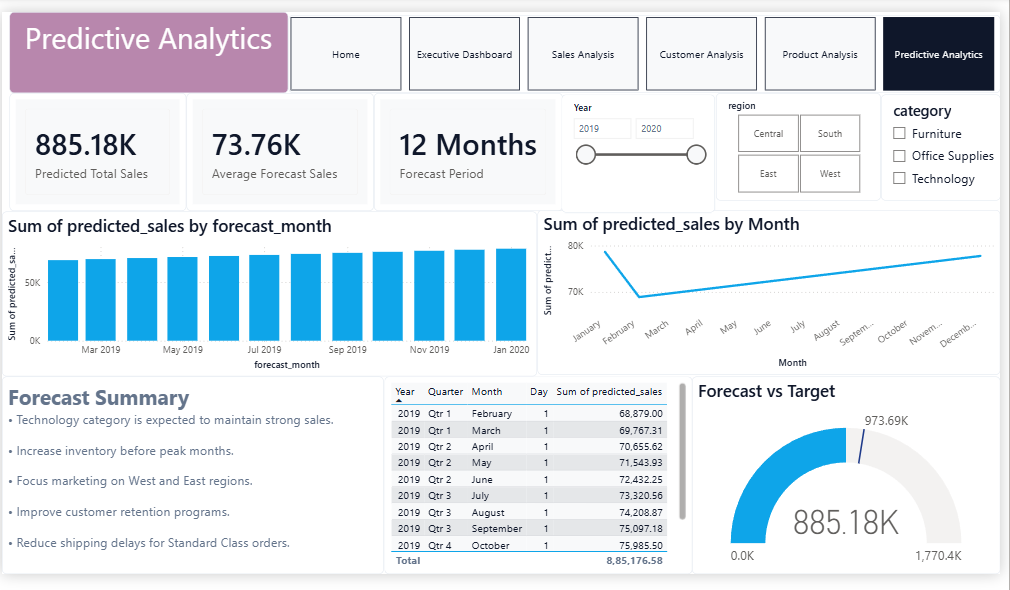

Layout of this report page (visuals, bound fields, positions):
{"tool":"powerbi","page":{"name":"Predictive Analytics","canvas":[1280,720],"ordinal":5},"visuals":[{"type":"textbox","box":[9.4,0,357.2,103.9],"z":0},{"type":"lineChart","fields":{"Category":["sales_forecast.forecast_month.Variation.Date Hierarchy.Month"],"Y":["Sum(sales_forecast.predicted_sales)"]},"box":[686,253.2,593.4,211.7],"z":1},{"type":"cardVisual","fields":{"Data":["public orders.Predicted Total Sales"]},"box":[9.4,103.9,226.8,151.2],"z":2},{"type":"cardVisual","fields":{"Data":["public orders.Average Forecast Sales"]},"box":[236.2,103.9,240,151.2],"z":3},{"type":"cardVisual","fields":{"Data":["public orders.Forecast Period"]},"box":[476.2,103.9,241.9,151.2],"z":4},{"type":"pageNavigator","box":[366.6,3.8,912.8,100.2],"z":5},{"type":"tableEx","fields":{"Values":["sales_forecast.forecast_month.Variation.Date Hierarchy.Year","sales_forecast.forecast_month.Variation.Date Hierarchy.Quarter","sales_forecast.forecast_month.Variation.Date Hierarchy.Month","sales_forecast.forecast_month.Variation.Date Hierarchy.Day","Sum(sales_forecast.predicted_sales)"]},"box":[489.5,466.8,395,253.2],"z":6},{"type":"clusteredColumnChart","fields":{"Y":["Sum(sales_forecast.predicted_sales)"],"Category":["sales_forecast.forecast_month"]},"box":[0,255.1,686,211.7],"z":7},{"type":"slicer","fields":{"Values":["sales_forecast.forecast_month.Variation.Date Hierarchy.Year"]},"box":[718.1,105.8,196.5,151.2],"z":8},{"type":"slicer","fields":{"Values":["public orders.region"]},"box":[914.7,103.9,211.7,138],"z":9},{"type":"slicer","fields":{"Values":["public orders.category"]},"box":[1126.3,105.8,153.1,136.1],"z":10},{"type":"textbox","box":[0,466.8,489.5,253.2],"z":11},{"type":"gauge","fields":{"Y":["public orders.Predicted Total Sales"],"TargetValue":["public orders.Sales Target"]},"box":[884,467,395,253],"z":12}]}

Visuals, with their boxes on the page's 1280x720 design canvas (x1, y1, x2, y2). These are canvas units, not pixel positions in the 1010x590 screenshot, which may show the page scaled, cropped or inside an application window:
textbox: bbox(9, 0, 367, 104)
lineChart - sales_forecast.forecast_month.Variation.Date Hierarchy.Month x Sum(sales_forecast.predicted_sales): bbox(686, 253, 1279, 465)
cardVisual - public orders.Predicted Total Sales: bbox(9, 104, 236, 255)
cardVisual - public orders.Average Forecast Sales: bbox(236, 104, 476, 255)
cardVisual - public orders.Forecast Period: bbox(476, 104, 718, 255)
pageNavigator: bbox(367, 4, 1279, 104)
tableEx - sales_forecast.forecast_month.Variation.Date Hierarchy.Year x sales_forecast.forecast_month.Variation.Date Hierarchy.Quarter: bbox(490, 467, 884, 720)
clusteredColumnChart - Sum(sales_forecast.predicted_sales) x sales_forecast.forecast_month: bbox(0, 255, 686, 467)
slicer - sales_forecast.forecast_month.Variation.Date Hierarchy.Year: bbox(718, 106, 915, 257)
slicer - public orders.region: bbox(915, 104, 1126, 242)
slicer - public orders.category: bbox(1126, 106, 1279, 242)
textbox: bbox(0, 467, 490, 720)
gauge - public orders.Predicted Total Sales x public orders.Sales Target: bbox(884, 467, 1279, 720)
